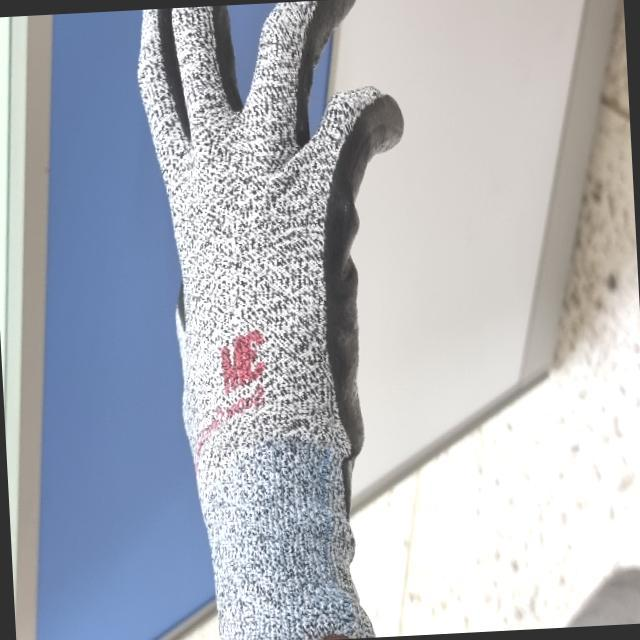Gloves: (142, 8, 406, 640)
